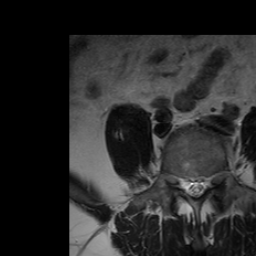CCS_normal: (191, 165, 199, 205)
LFS_normal: (208, 164, 217, 196)
LLS_normal: (199, 167, 208, 201)
RFS_normal: (174, 165, 183, 197)
RLS_normal: (183, 166, 191, 200)
